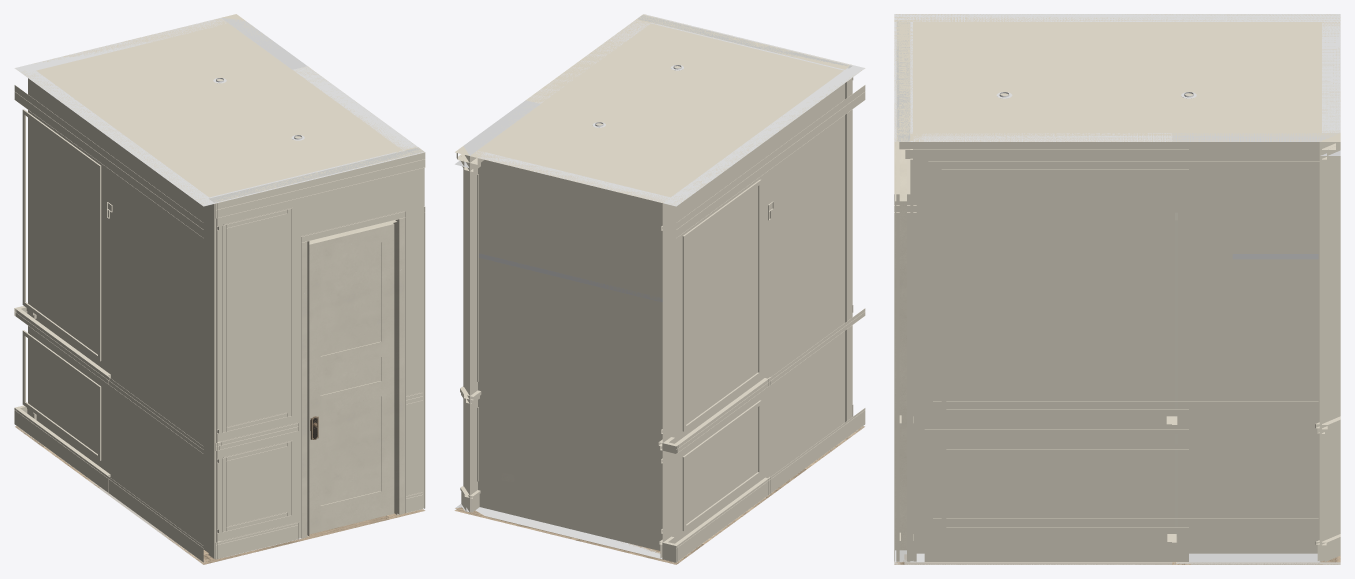
The model's file is loli-closet-9885b71ffec1.glb.
3 views of the same model, side by side, from view 1: azimuth 30°, elevation 25°; view 2: azimuth 150°, elevation 25°; view 3: azimuth 270°, elevation 25° (orthographic). The views are drawn at different scales.
Parts seen in each view (by area): view 1: loli-closet-6a1144f4e43410bb, loli-closet-0e637d2be41161fb, loli-closet-2575515a05775d9e, loli-closet-5b37b110dc0e2cdc, loli-closet-d6b1bc8c737b28e2, loli-closet-e1ae12ec9cba52a2, loli-closet-609bc1027670cc96, loli-closet-2c29ddcb8551cb02, loli-closet-e54d813e60c9e7c4, loli-closet-8c325fd3303e2546, loli-closet-cff4566edbc5d5ad, loli-closet-9d632b693d1b5808 (+16 smaller); view 2: loli-closet-e1ae12ec9cba52a2, loli-closet-6a1144f4e43410bb, loli-closet-2575515a05775d9e, loli-closet-0e637d2be41161fb, loli-closet-1c7325212038a6e7, loli-closet-2c29ddcb8551cb02, loli-closet-e54d813e60c9e7c4, loli-closet-cff4566edbc5d5ad, loli-closet-cc15fd6f291c811e, loli-closet-f6f53edb039cffb5, loli-closet-3b0077416469e01b, loli-closet-507cee9bdbce9ceb (+6 smaller); view 3: loli-closet-03bdd0165789d12b, loli-closet-1c7325212038a6e7, loli-closet-2575515a05775d9e, loli-closet-1bcbe5547b2cfbdc, loli-closet-92c333610bf7beb4, loli-closet-a8b6749dbb482e83, loli-closet-aaf71131b60d1226, loli-closet-b6646e2e222b858d, loli-closet-0b1205313859304a, loli-closet-b000e8b10159de15, loli-closet-6a1144f4e43410bb, loli-closet-d6b1bc8c737b28e2 (+12 smaller).
Part boxes in pixels (bbox=[...]): loli-closet-6a1144f4e43410bb: bbox=[15, 65, 215, 562]; loli-closet-0e637d2be41161fb: bbox=[208, 146, 424, 559]; loli-closet-2575515a05775d9e: bbox=[16, 14, 424, 205]; loli-closet-5b37b110dc0e2cdc: bbox=[309, 223, 394, 534]; loli-closet-d6b1bc8c737b28e2: bbox=[302, 218, 404, 538]; loli-closet-e1ae12ec9cba52a2: bbox=[28, 18, 226, 408]; loli-closet-609bc1027670cc96: bbox=[215, 152, 425, 218]; loli-closet-2c29ddcb8551cb02: bbox=[14, 408, 203, 562]; loli-closet-e54d813e60c9e7c4: bbox=[14, 85, 203, 237]; loli-closet-8c325fd3303e2546: bbox=[222, 209, 291, 432]; loli-closet-cff4566edbc5d5ad: bbox=[22, 109, 101, 361]; loli-closet-9d632b693d1b5808: bbox=[307, 219, 398, 536]; loli-closet-e1ae12ec9cba52a2: bbox=[470, 151, 670, 558]; loli-closet-6a1144f4e43410bb: bbox=[662, 65, 864, 543]; loli-closet-2575515a05775d9e: bbox=[455, 14, 864, 205]; loli-closet-0e637d2be41161fb: bbox=[637, 14, 852, 422]; loli-closet-1c7325212038a6e7: bbox=[463, 100, 540, 511]; loli-closet-2c29ddcb8551cb02: bbox=[676, 408, 865, 562]; loli-closet-e54d813e60c9e7c4: bbox=[676, 85, 865, 237]; loli-closet-cff4566edbc5d5ad: bbox=[682, 179, 761, 431]; loli-closet-cc15fd6f291c811e: bbox=[470, 24, 655, 171]; loli-closet-f6f53edb039cffb5: bbox=[682, 400, 761, 530]; loli-closet-3b0077416469e01b: bbox=[454, 426, 864, 564]; loli-closet-507cee9bdbce9ceb: bbox=[673, 378, 768, 453]; loli-closet-03bdd0165789d12b: bbox=[913, 133, 1172, 562]; loli-closet-1c7325212038a6e7: bbox=[1172, 133, 1340, 562]; loli-closet-2575515a05775d9e: bbox=[894, 14, 1340, 141]; loli-closet-1bcbe5547b2cfbdc: bbox=[924, 542, 1188, 562]; loli-closet-92c333610bf7beb4: bbox=[928, 161, 1319, 405]; loli-closet-a8b6749dbb482e83: bbox=[916, 534, 1319, 553]; loli-closet-aaf71131b60d1226: bbox=[913, 141, 1188, 159]; loli-closet-b6646e2e222b858d: bbox=[928, 436, 1319, 523]; loli-closet-0b1205313859304a: bbox=[941, 169, 1188, 414]; loli-closet-b000e8b10159de15: bbox=[916, 416, 1319, 425]; loli-closet-6a1144f4e43410bb: bbox=[894, 14, 1340, 21]; loli-closet-d6b1bc8c737b28e2: bbox=[895, 142, 906, 550].
Bounding box in the file's own units: 1.95 × 3.03 × 2.88.
18 materials, 3 textured.
